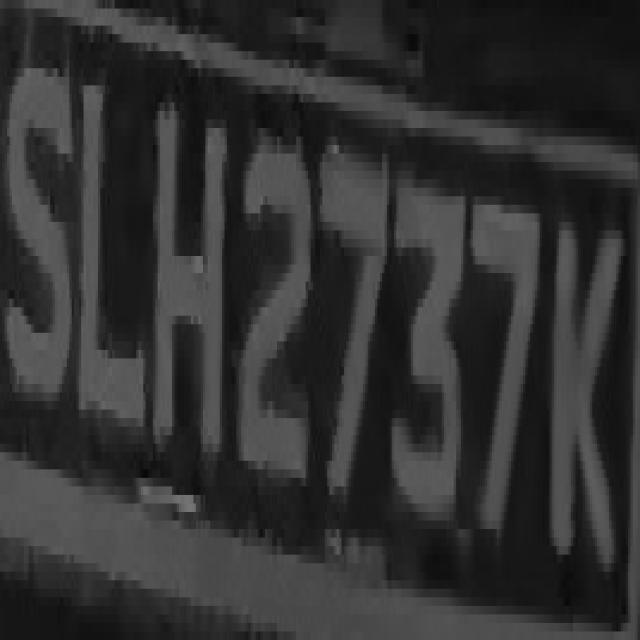2: (239, 103, 310, 546)
3: (396, 120, 468, 598)
7: (313, 111, 396, 546), (468, 136, 537, 589)
H: (156, 68, 237, 521)
K: (552, 179, 621, 589)
L: (74, 26, 155, 469)
S: (2, 26, 79, 410)
